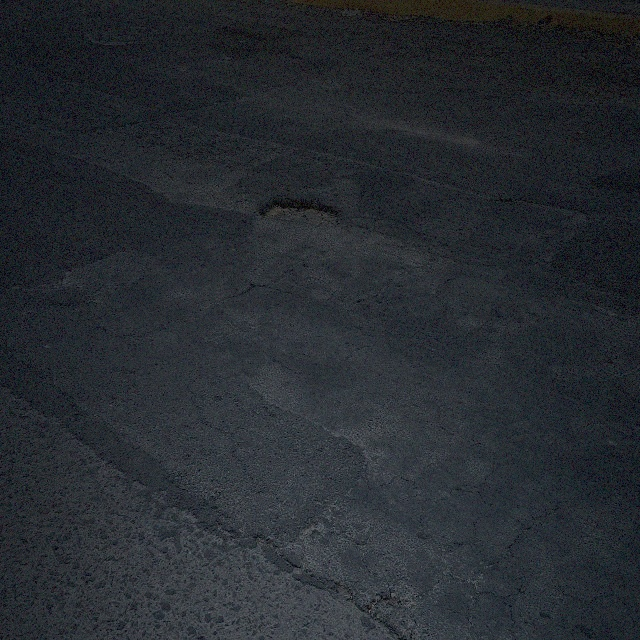pothole: (256, 190, 342, 232)
